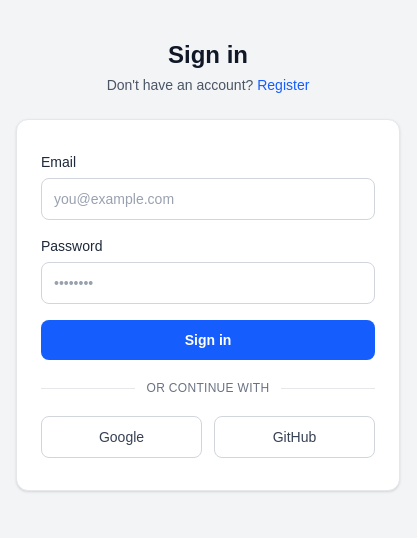
Test: LoginPage › shows an error message on invalid credentials
In the field labelled "Email": (208, 199) [41,178,375,220], type "alice@example.com"
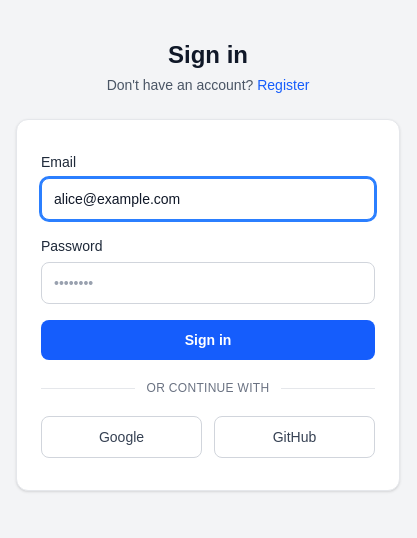
In the password field labelled "Password": (208, 283) [41,262,375,304], type "wrongpass"
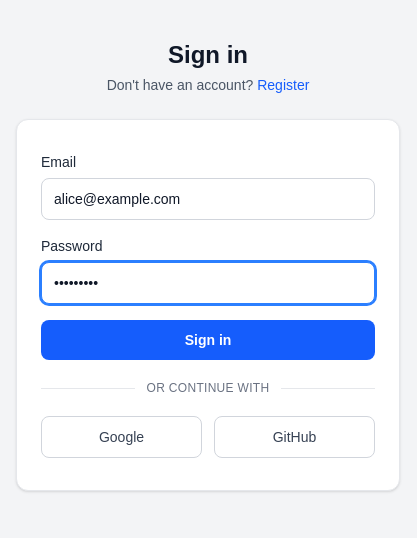
Click the button "Sign in": (208, 340) [41,320,375,360]
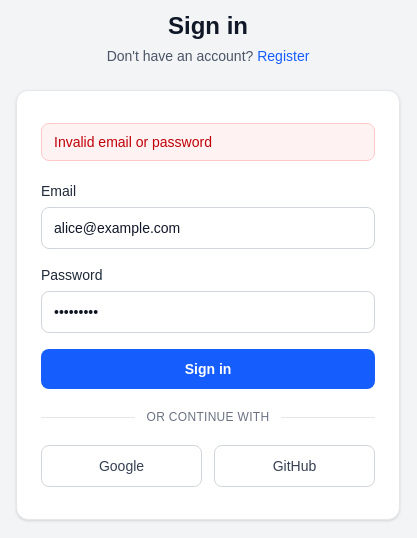
Expected: the text "Invalid email or password" is shown, [41,123,375,161]
